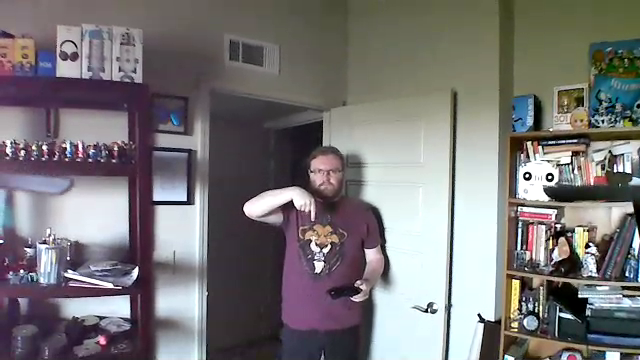down: (286, 178, 320, 232)
